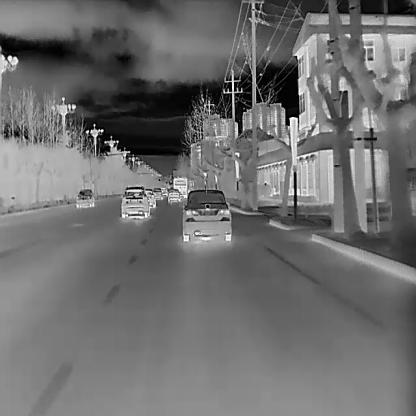bus: (172, 177, 187, 199)
car: (182, 189, 232, 242), (121, 185, 150, 218), (74, 189, 94, 207), (144, 188, 156, 208), (167, 188, 180, 203), (151, 187, 163, 201)
